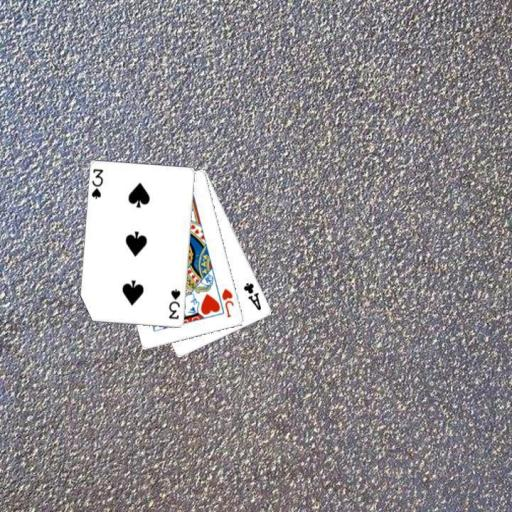card-corner: (240, 280, 263, 312), (166, 286, 182, 321), (219, 285, 235, 319), (89, 166, 104, 200)
